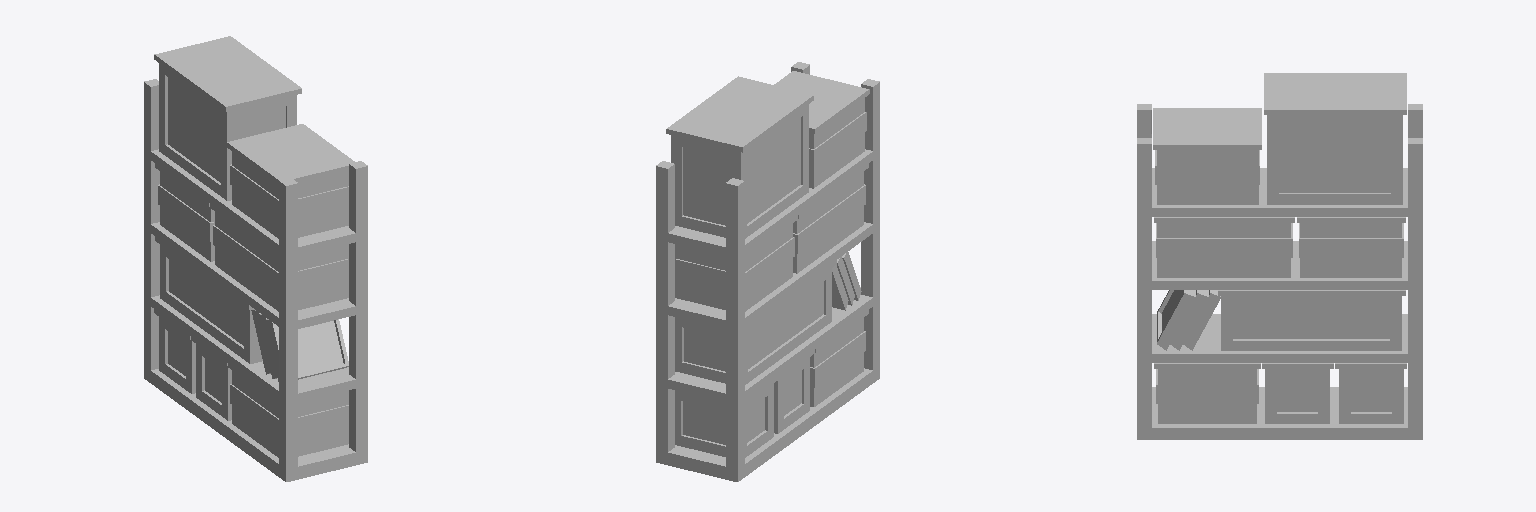
File: shelf_v8_2.obj
3 views of the same model, side by side, from view 1: azimuth 30°, elevation 25°; view 2: azimuth 150°, elevation 25°; view 3: azimuth 270°, elevation 25° (orthographic).
Visible parts, largest first — view 1: pCube287; view 2: pCube287; view 3: pCube287.
Part boxes in pixels (x1,y1,x2,y2): pCube287: (144,36,367,481); pCube287: (656,62,879,481); pCube287: (1137,73,1422,439).
Size of the model in its own units: 4 by 15.26 by 12.